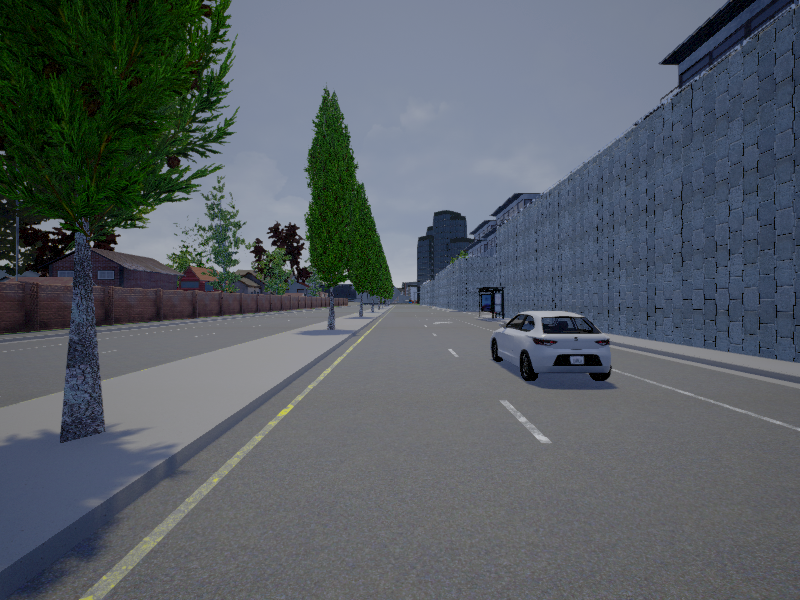Benign: (494, 311, 612, 384)
